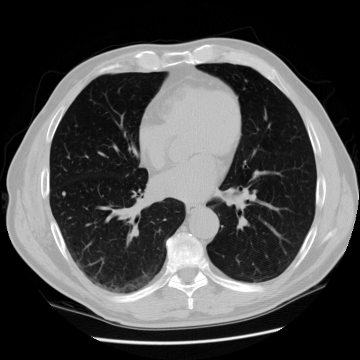nodule: (61, 191, 65, 195)
